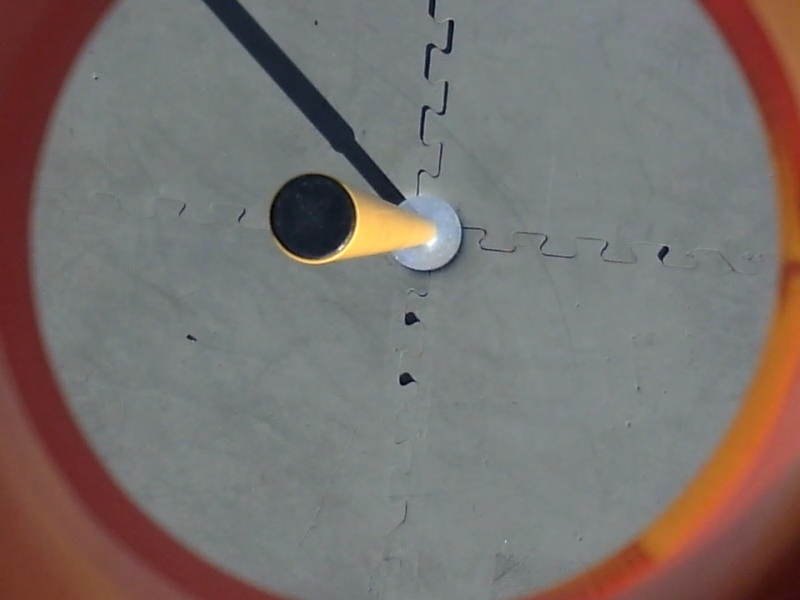tip: (261, 170, 367, 265)
